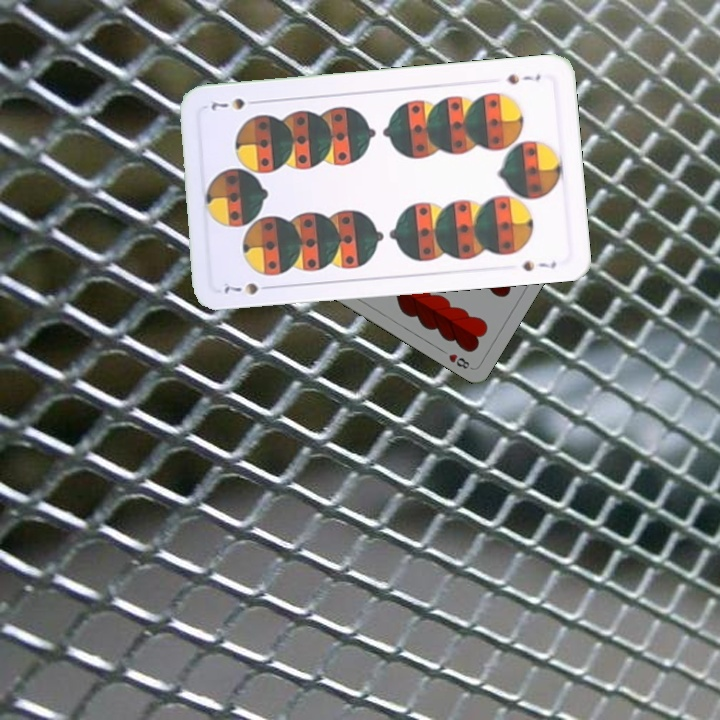S7: (220, 278, 276, 298), (503, 70, 543, 87)
